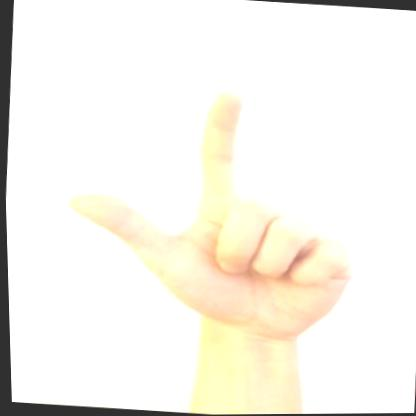L: (42, 70, 372, 354)
